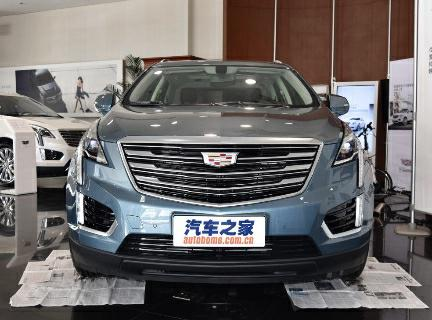凯迪拉克-XT5: (62, 58, 380, 284)
